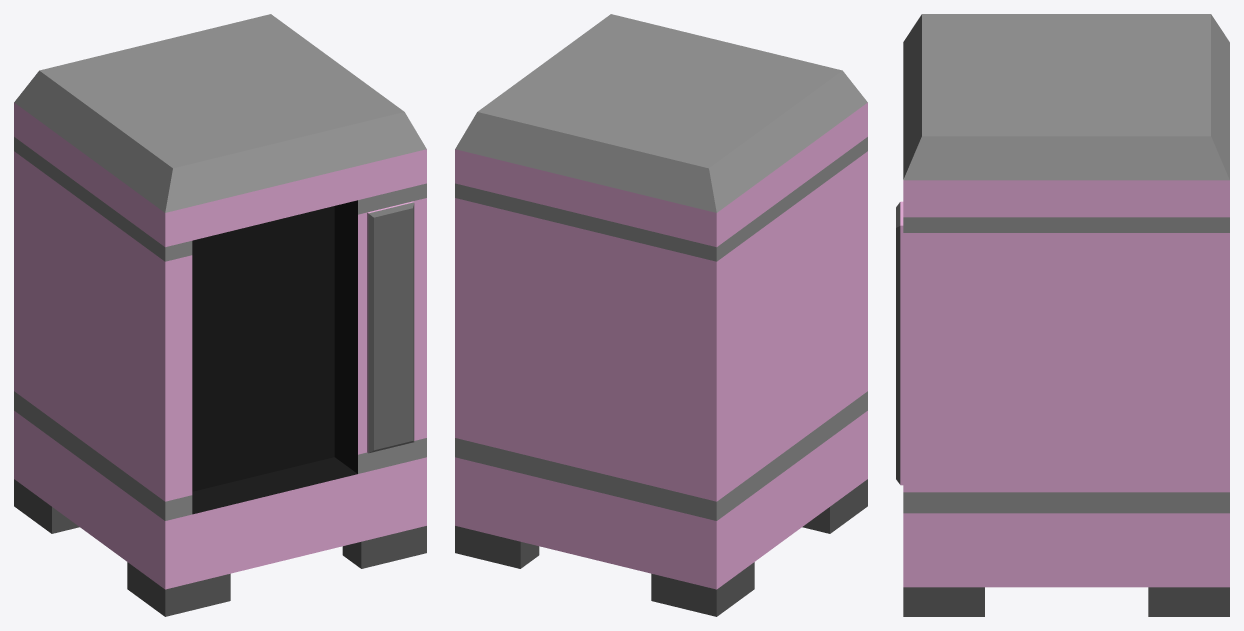
The model's file is Vending.fbx.
3 renders of one model, left to right at view 1: azimuth 30°, elevation 25°; view 2: azimuth 150°, elevation 25°; view 3: azimuth 270°, elevation 25°, orthographic. The views are drawn at different scales.
Visible parts, largest first — view 1: Cube; view 2: Cube; view 3: Cube.
Part boxes in pixels (left/top/right/bottom): Cube: left=14, top=14, right=426, bottom=616; Cube: left=455, top=14, right=867, bottom=616; Cube: left=896, top=14, right=1229, bottom=616.
Bounding box in the file's own units: 200 × 320 × 204.
